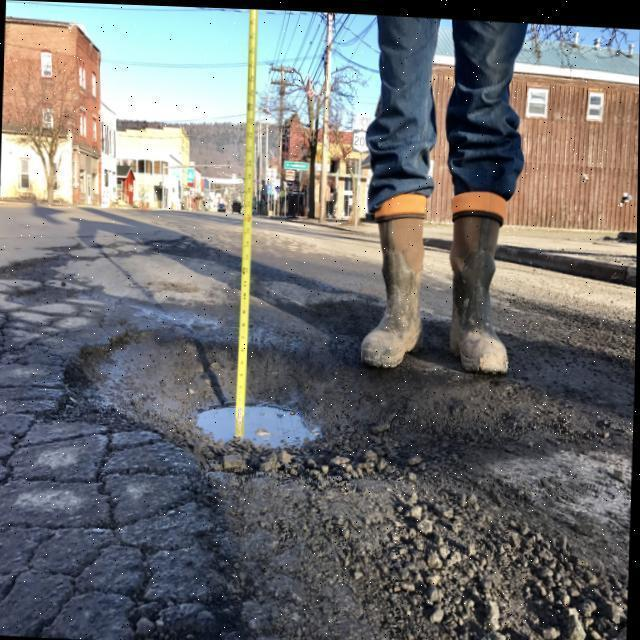Pothole: (52, 322, 542, 487)
